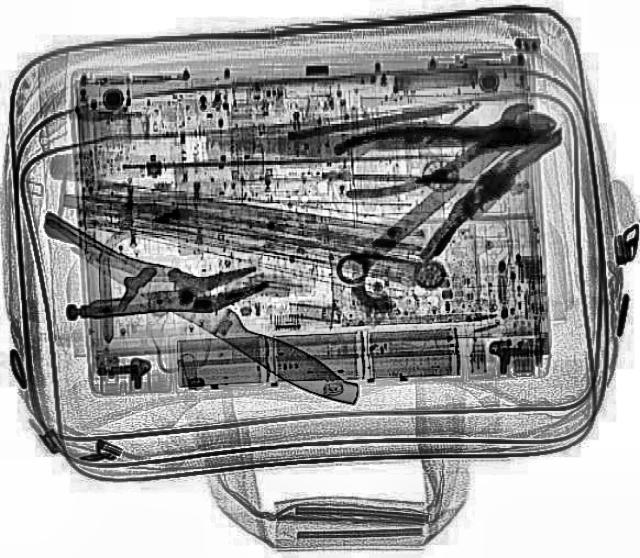Gun: (386, 127, 594, 265)
Knife: (60, 231, 368, 412)
Pliers: (326, 100, 544, 204)
Wrench: (321, 95, 557, 295)
